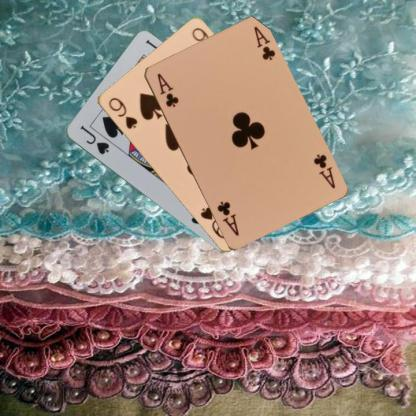9s: (105, 94, 139, 131)
Ac: (310, 151, 336, 190), (154, 70, 180, 108)
Js: (77, 122, 110, 156)
